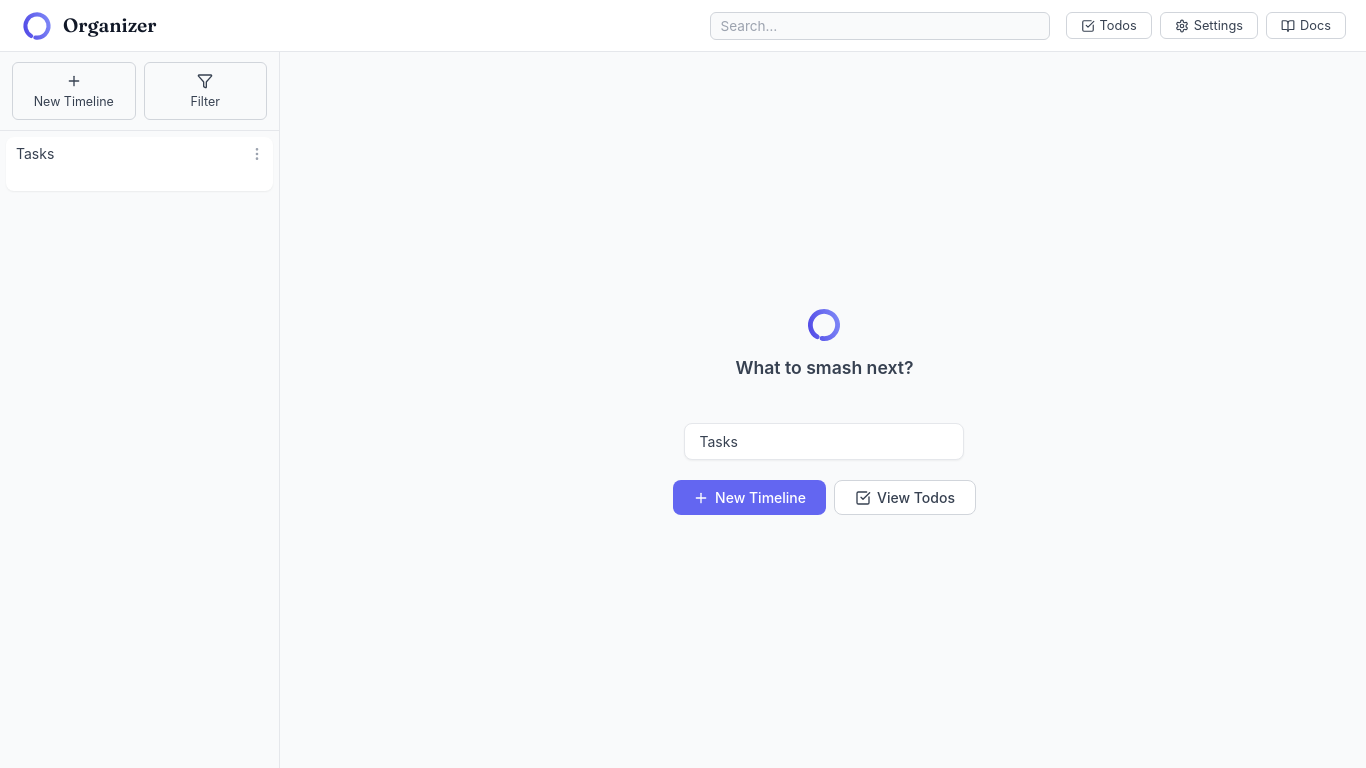
Test case: App home empty state › navigates to the Todos page when clicked
This screenshot has width=1366, height=768.
What coordinates should you click on to do the following:
click the button "View Todos"
I would click on:
 (905, 498)
Its box is [834, 480, 976, 515].
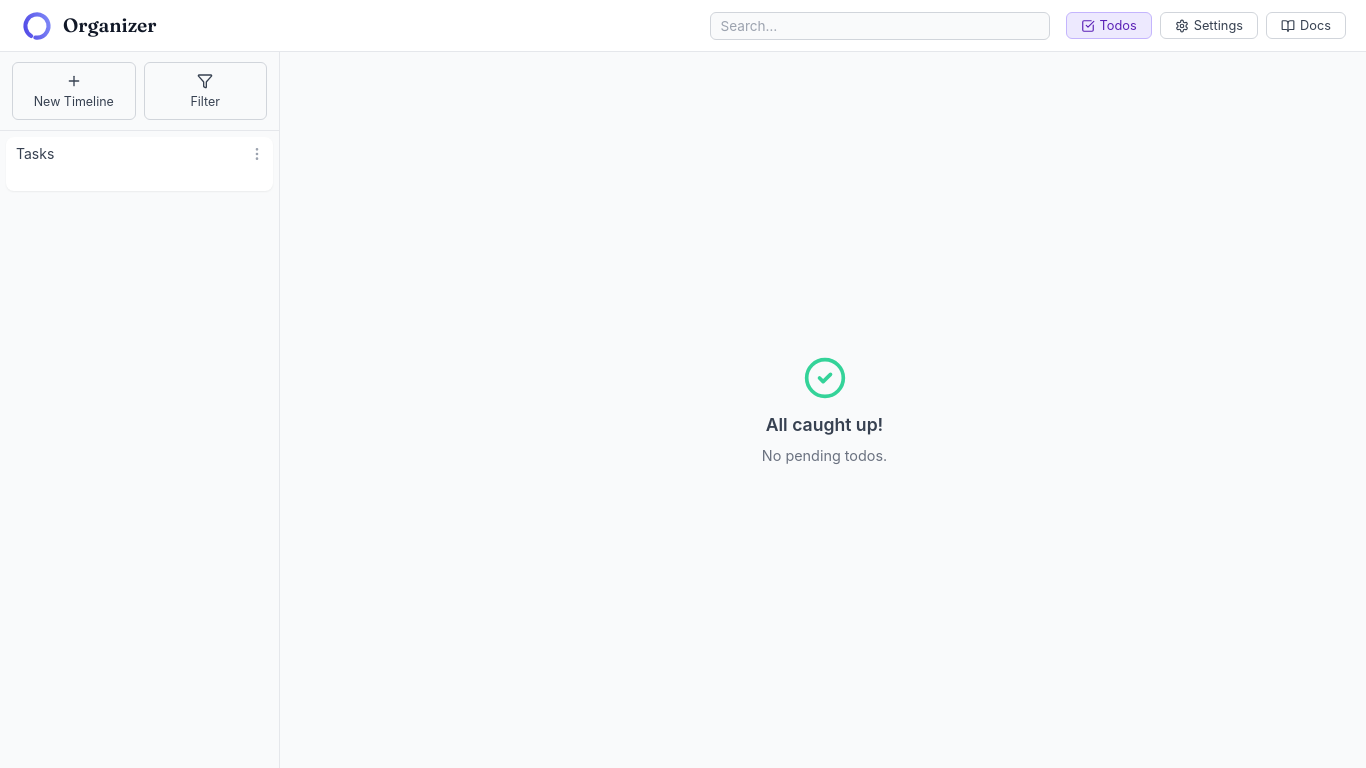
Expected: the heading "All caught up!" is shown, [766, 414, 883, 435]
